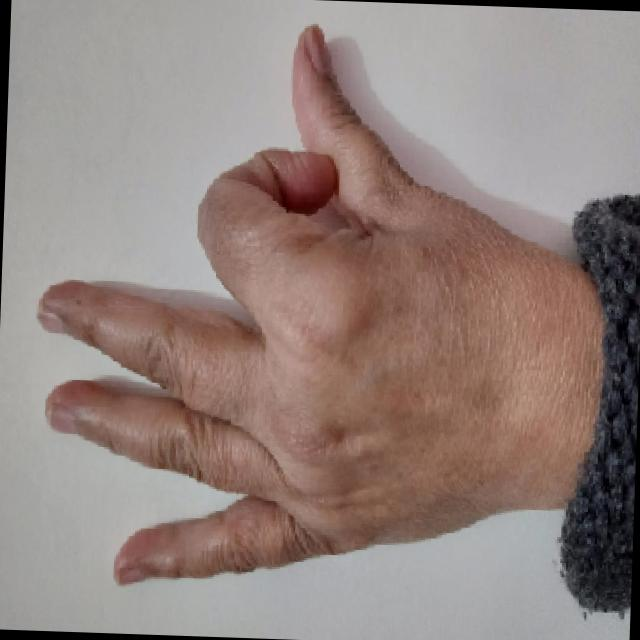Nail: (300, 22, 332, 76), (46, 401, 77, 432), (38, 310, 67, 333), (113, 567, 142, 584)
